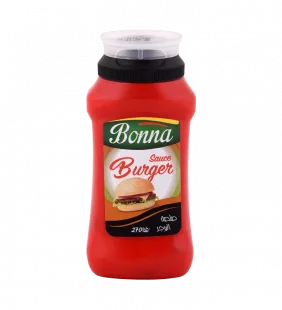BONNA: (80, 24, 200, 281)
